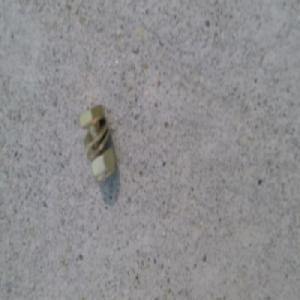BoltNutSet: (79, 103, 116, 183)
